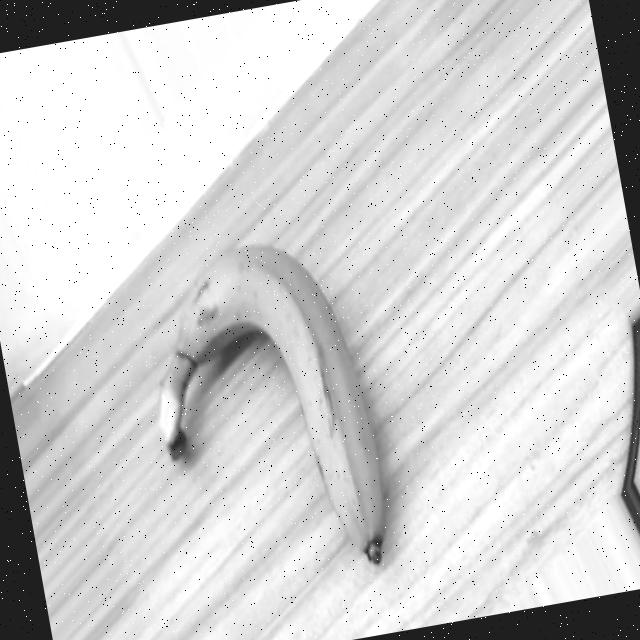Unripe: (130, 230, 396, 594)
